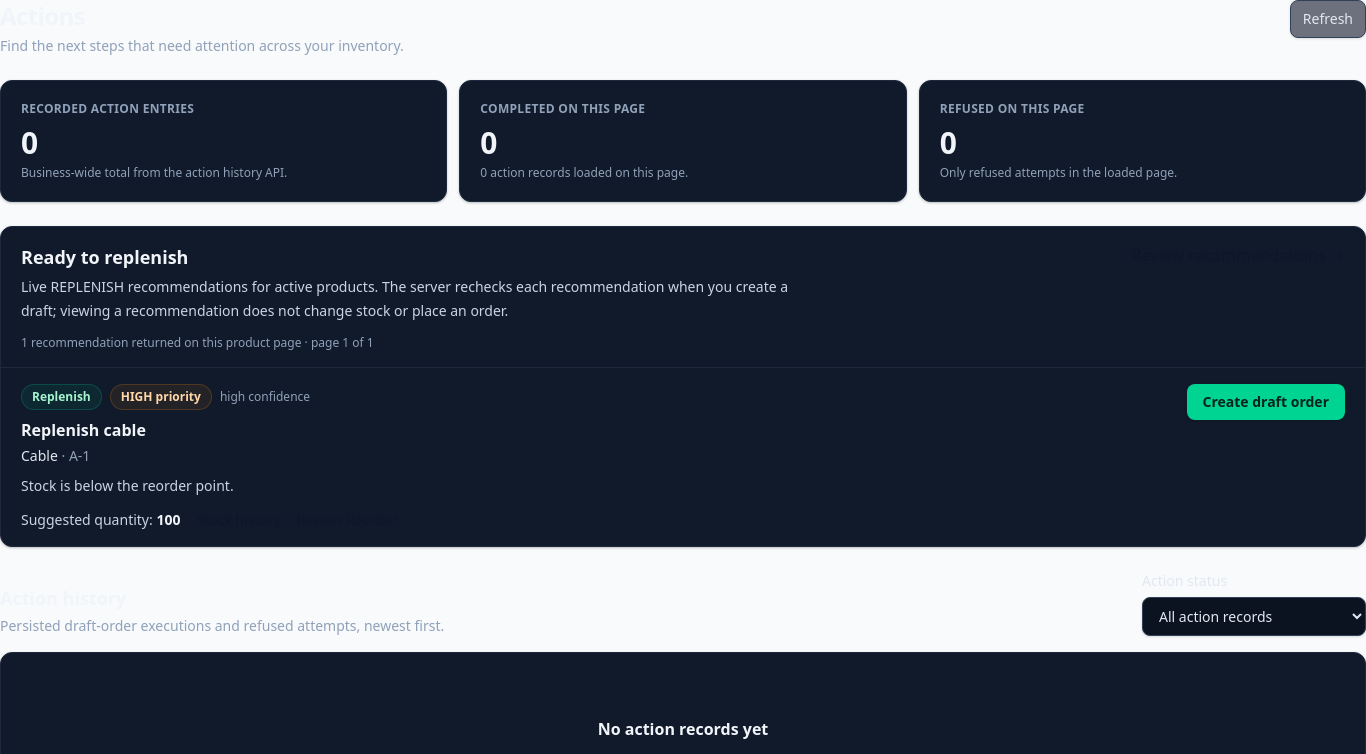
Action Center - the dialog cannot be dismissed mid-request › surfaces a stale recommendation without closing
What coordinates should you click on to do the following:
click the button "Create draft order"
I would click on:
 (1266, 402)
Its box is [1186, 384, 1345, 420].
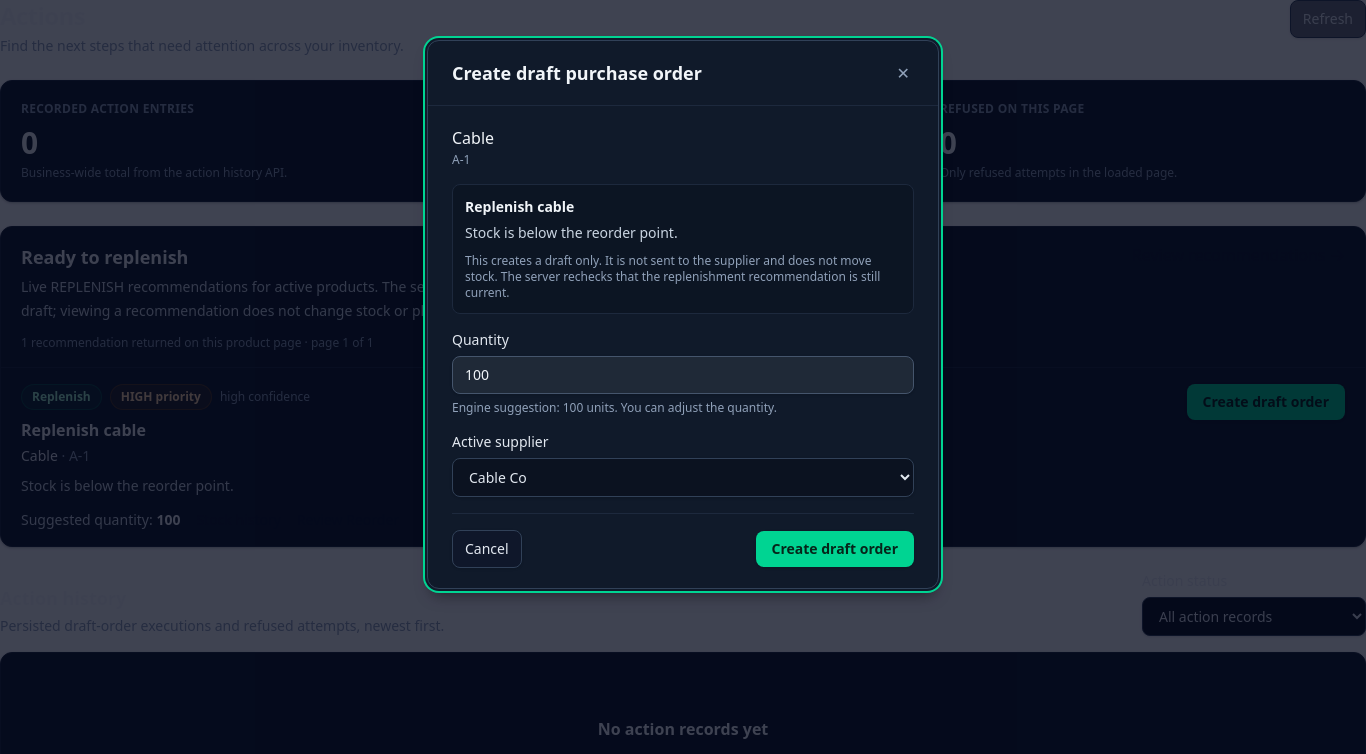
What coordinates should you click on to do the following:
click the button "Create draft order"
I would click on:
 (835, 549)
Its box is [756, 531, 914, 567].
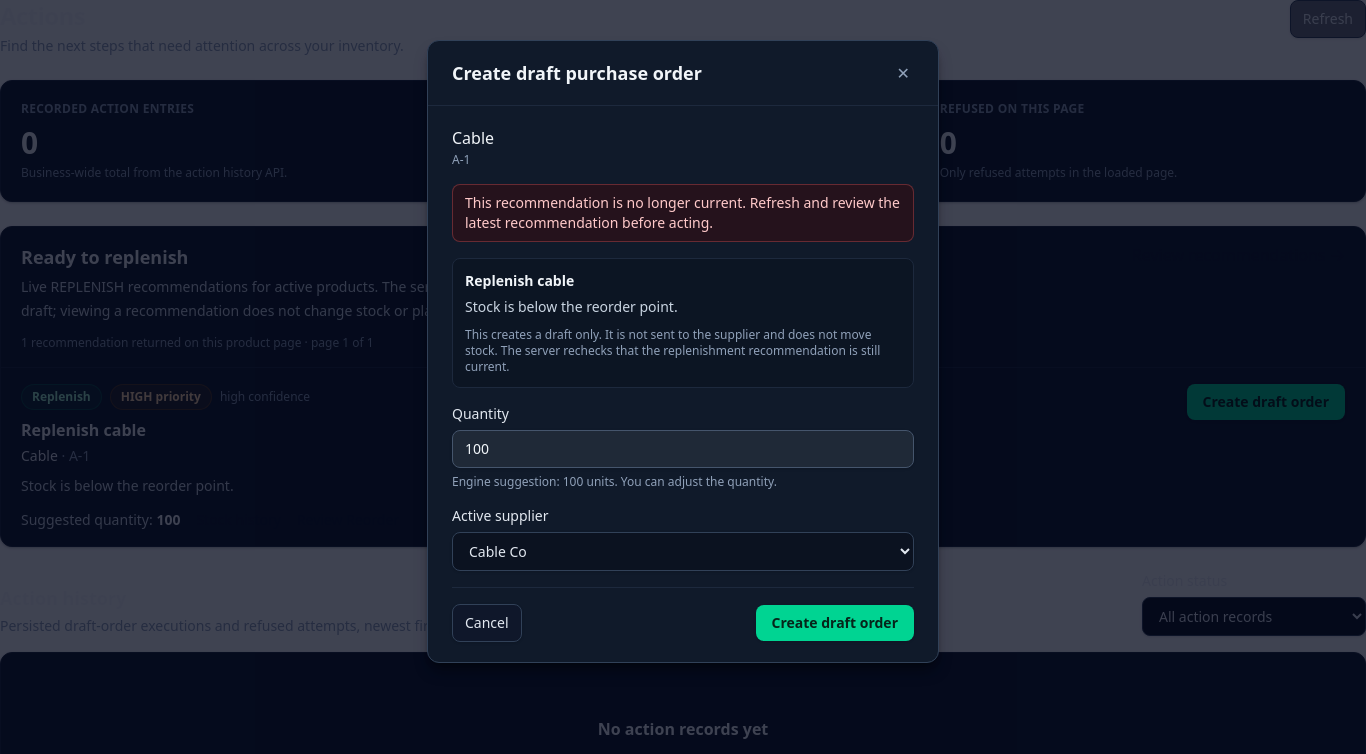
Result: the dialog is shown at [427, 40, 939, 663]
Result: the message shows "no longer current" at [465, 193, 900, 232]
